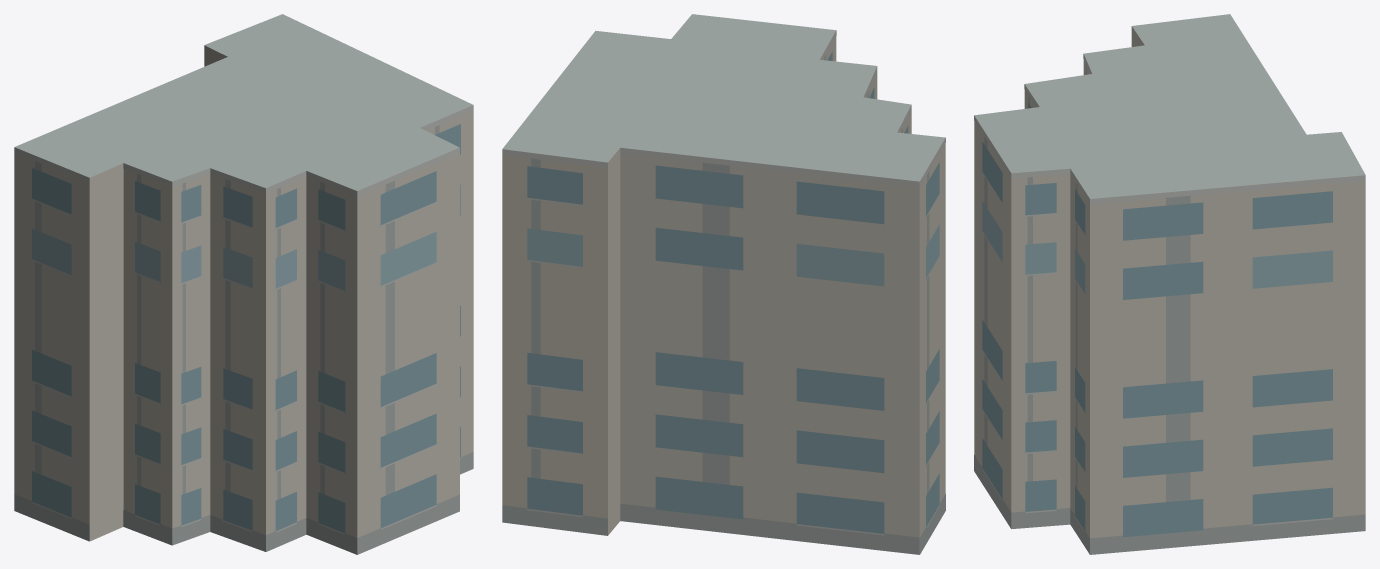
The model's file is survey-upis-32461156.glb.
3 views of the same model, side by side, from view 1: azimuth 30°, elevation 25°; view 2: azimuth 150°, elevation 25°; view 3: azimuth 270°, elevation 25° (orthographic). The views are drawn at different scales.
Visible parts, largest first — view 1: survey-upis-32461156.tmp; view 2: survey-upis-32461156.tmp; view 3: survey-upis-32461156.tmp.
Part boxes in pixels (<box>): survey-upis-32461156.tmp: <box>14,14,473,554</box>; survey-upis-32461156.tmp: <box>502,14,945,554</box>; survey-upis-32461156.tmp: <box>974,14,1365,554</box>.
Size of the model in its own units: 18.08 by 16.2 by 16.17.
